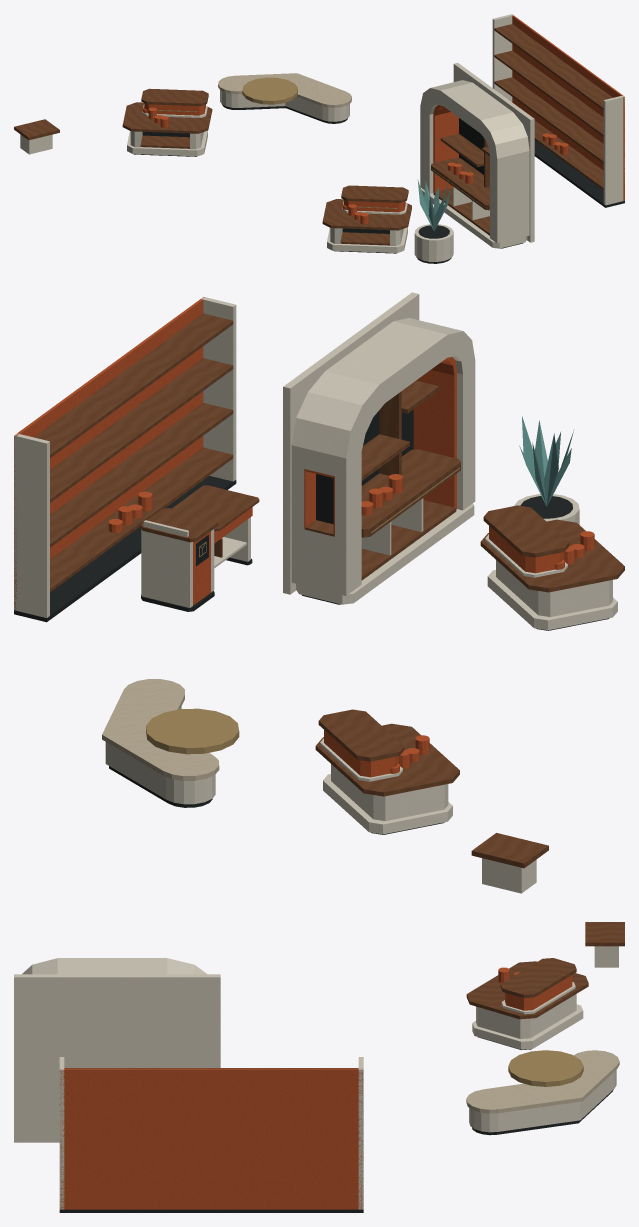
The model's file is SHOP_D09_S100_F262__fitout.glb.
3 views of the same model, one above another, from view 1: azimuth 30°, elevation 25°; view 2: azimuth 150°, elevation 25°; view 3: azimuth 270°, elevation 25° (orthographic). The views are drawn at different scales.
Parts seen in each view (by area): view 1: SHOP_D09_S100_F262__fitout__ivory_enamel, SHOP_D09_S100_F262__fitout__warm_walnut, SHOP_D09_S100_F262__fitout__retail_terracotta_enamel, SHOP_D09_S100_F262__fitout__dark_rubber, SHOP_D09_S100_F262__fitout__oatmeal_weave, SHOP_D09_S100_F262__fitout__champagne_metal, SHOP_D09_S100_F262__fitout__quiet_teal; view 2: SHOP_D09_S100_F262__fitout__ivory_enamel, SHOP_D09_S100_F262__fitout__warm_walnut, SHOP_D09_S100_F262__fitout__retail_terracotta_enamel, SHOP_D09_S100_F262__fitout__dark_rubber, SHOP_D09_S100_F262__fitout__oatmeal_weave, SHOP_D09_S100_F262__fitout__champagne_metal, SHOP_D09_S100_F262__fitout__quiet_teal; view 3: SHOP_D09_S100_F262__fitout__retail_terracotta_enamel, SHOP_D09_S100_F262__fitout__ivory_enamel, SHOP_D09_S100_F262__fitout__warm_walnut, SHOP_D09_S100_F262__fitout__oatmeal_weave, SHOP_D09_S100_F262__fitout__champagne_metal, SHOP_D09_S100_F262__fitout__dark_rubber.
Boxes of the visible parts, x1,y1,x2,y2 form: SHOP_D09_S100_F262__fitout__ivory_enamel: [20, 14, 624, 261]; SHOP_D09_S100_F262__fitout__warm_walnut: [14, 24, 612, 245]; SHOP_D09_S100_F262__fitout__retail_terracotta_enamel: [142, 14, 624, 224]; SHOP_D09_S100_F262__fitout__dark_rubber: [133, 104, 624, 263]; SHOP_D09_S100_F262__fitout__oatmeal_weave: [218, 73, 351, 107]; SHOP_D09_S100_F262__fitout__champagne_metal: [157, 77, 484, 208]; SHOP_D09_S100_F262__fitout__quiet_teal: [417, 179, 450, 231]; SHOP_D09_S100_F262__fitout__ivory_enamel: [14, 292, 617, 893]; SHOP_D09_S100_F262__fitout__warm_walnut: [34, 313, 624, 868]; SHOP_D09_S100_F262__fitout__retail_terracotta_enamel: [14, 297, 594, 777]; SHOP_D09_S100_F262__fitout__dark_rubber: [14, 409, 609, 834]; SHOP_D09_S100_F262__fitout__oatmeal_weave: [102, 679, 219, 780]; SHOP_D09_S100_F262__fitout__champagne_metal: [146, 467, 459, 754]; SHOP_D09_S100_F262__fitout__quiet_teal: [519, 416, 574, 506]; SHOP_D09_S100_F262__fitout__retail_terracotta_enamel: [59, 967, 572, 1209]; SHOP_D09_S100_F262__fitout__ivory_enamel: [14, 946, 618, 1209]; SHOP_D09_S100_F262__fitout__warm_walnut: [64, 922, 624, 1068]; SHOP_D09_S100_F262__fitout__oatmeal_weave: [466, 1050, 619, 1113]; SHOP_D09_S100_F262__fitout__champagne_metal: [508, 1050, 583, 1086]; SHOP_D09_S100_F262__fitout__dark_rubber: [59, 1037, 613, 1212].
Size of the model in its own units: 10.25 by 3 by 10.05.
Materials: 7 (6 with a texture image).
